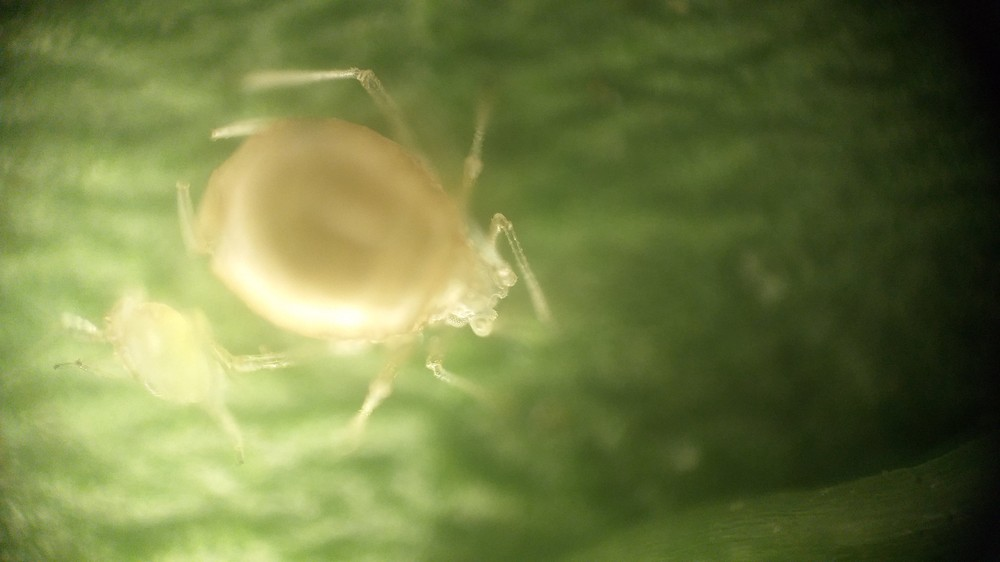Pulgon: (168, 58, 610, 460)
